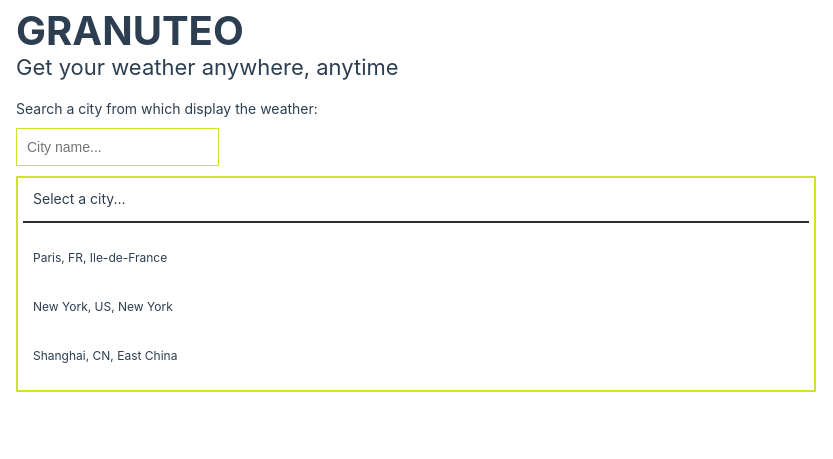
Scenario: Inputs and cities list are displayed and interactive › should fill the city's input and show results
The width and height of the screenshot is (833, 459).
Type "Lyon" into the field with id "city-input".
click(118, 147); type("Lyon")  # box [16,128,219,166]
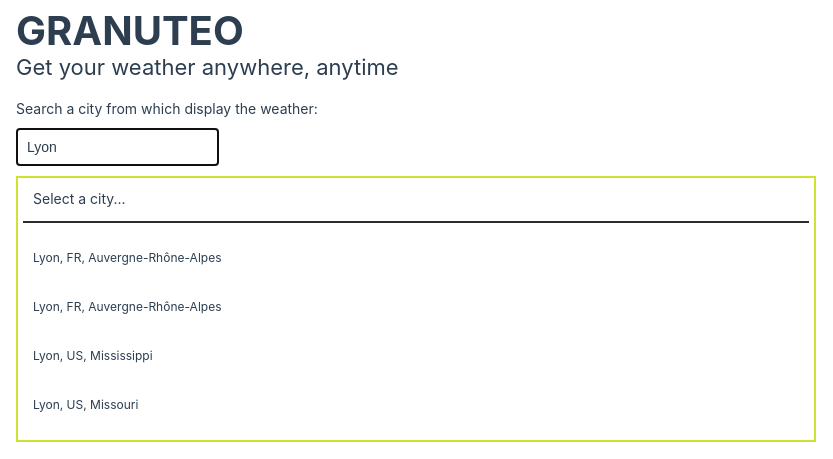
Result: the number of list items is more than 0
Result: the 1st text "Lyon" is shown at [33,250,221,265]
